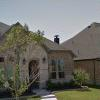Chimney: (47, 23, 60, 48)
